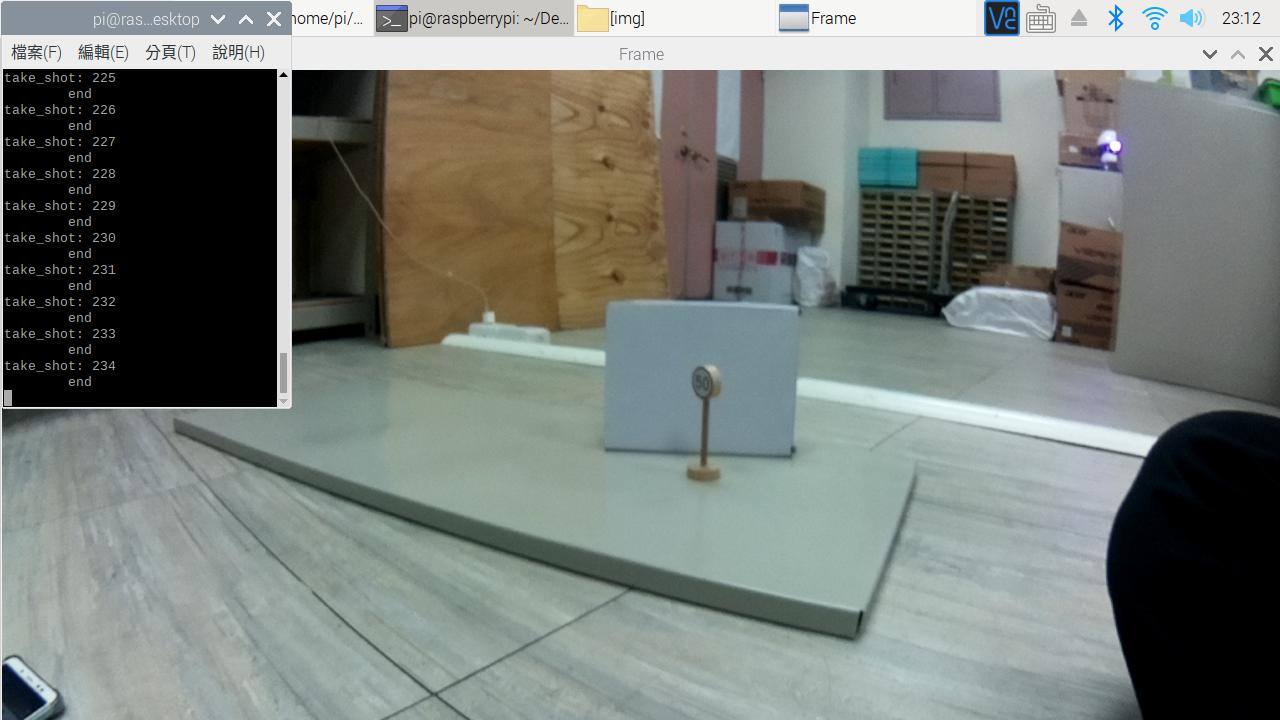Speed50: (677, 359, 739, 413)
